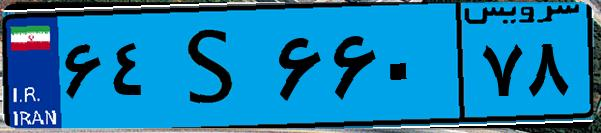0: (385, 28, 445, 110)
4: (110, 28, 158, 98)
6: (270, 28, 330, 110), (330, 28, 385, 110), (57, 26, 110, 100)
7: (475, 38, 525, 113)
8: (525, 38, 570, 115)
S: (158, 12, 270, 120)
